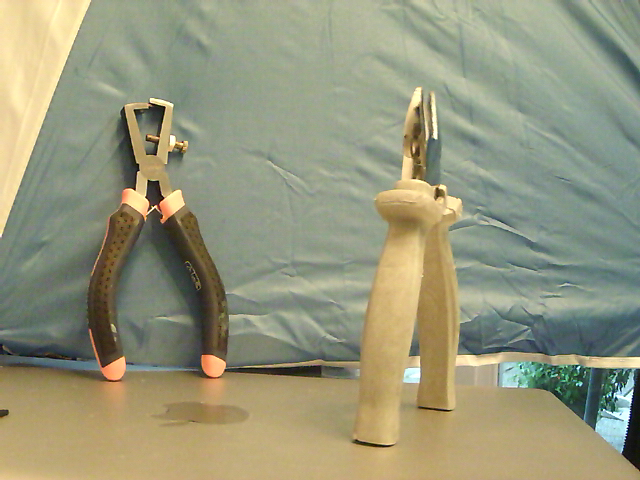pliers: (348, 83, 464, 451)
